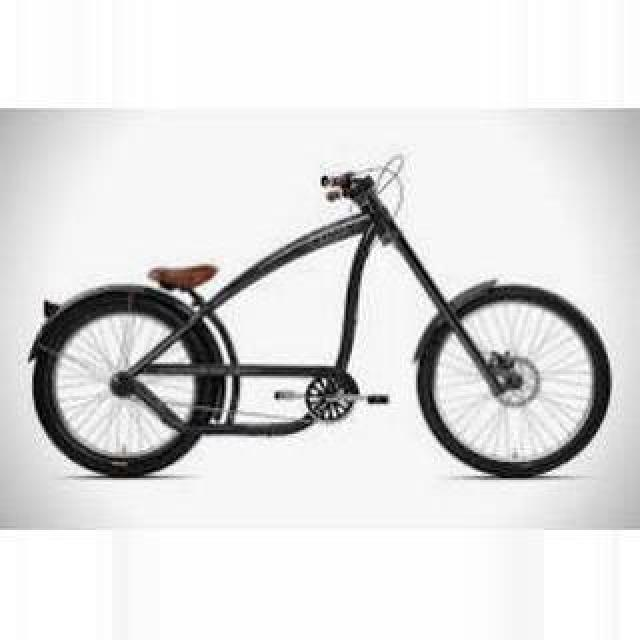Person: (28, 158, 612, 478)
